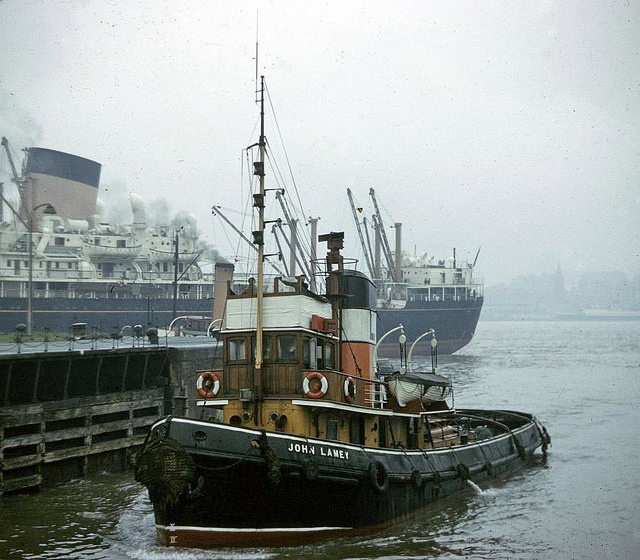tug_boat: (126, 195, 553, 533)
